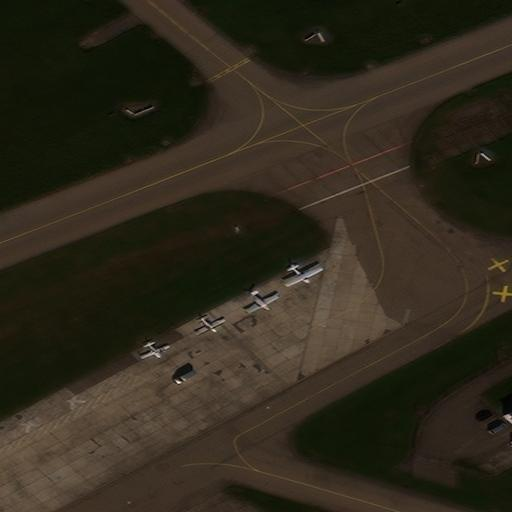Small Civil Transport: (287, 264, 323, 287), (248, 291, 279, 313), (196, 316, 226, 335), (141, 341, 170, 359)
